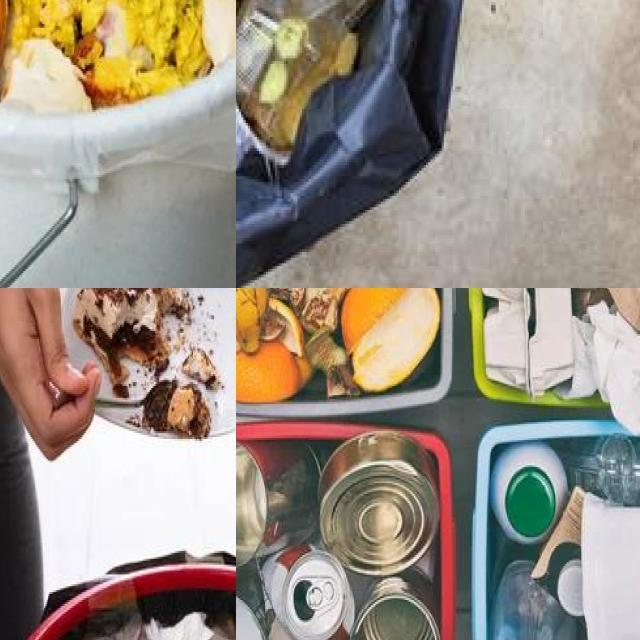Garbage: (236, 429, 440, 640), (486, 438, 640, 640), (236, 288, 454, 416), (470, 288, 640, 430), (350, 568, 438, 640)
Glass_bottle: (493, 560, 576, 640)
Metal: (236, 431, 440, 640)
Plastic: (581, 495, 640, 640)
Plastic_Bag: (236, 0, 376, 148)
Plastic_bottle: (490, 442, 567, 544), (567, 434, 640, 506)
contaminated_waste: (482, 288, 575, 395), (490, 442, 567, 544)
top_view_waste: (236, 0, 462, 288)
